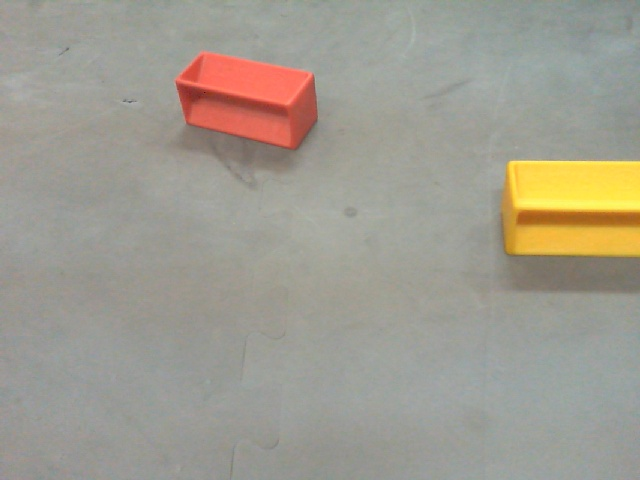RedSample: (173, 50, 320, 151)
YellowSample: (500, 155, 640, 258)
